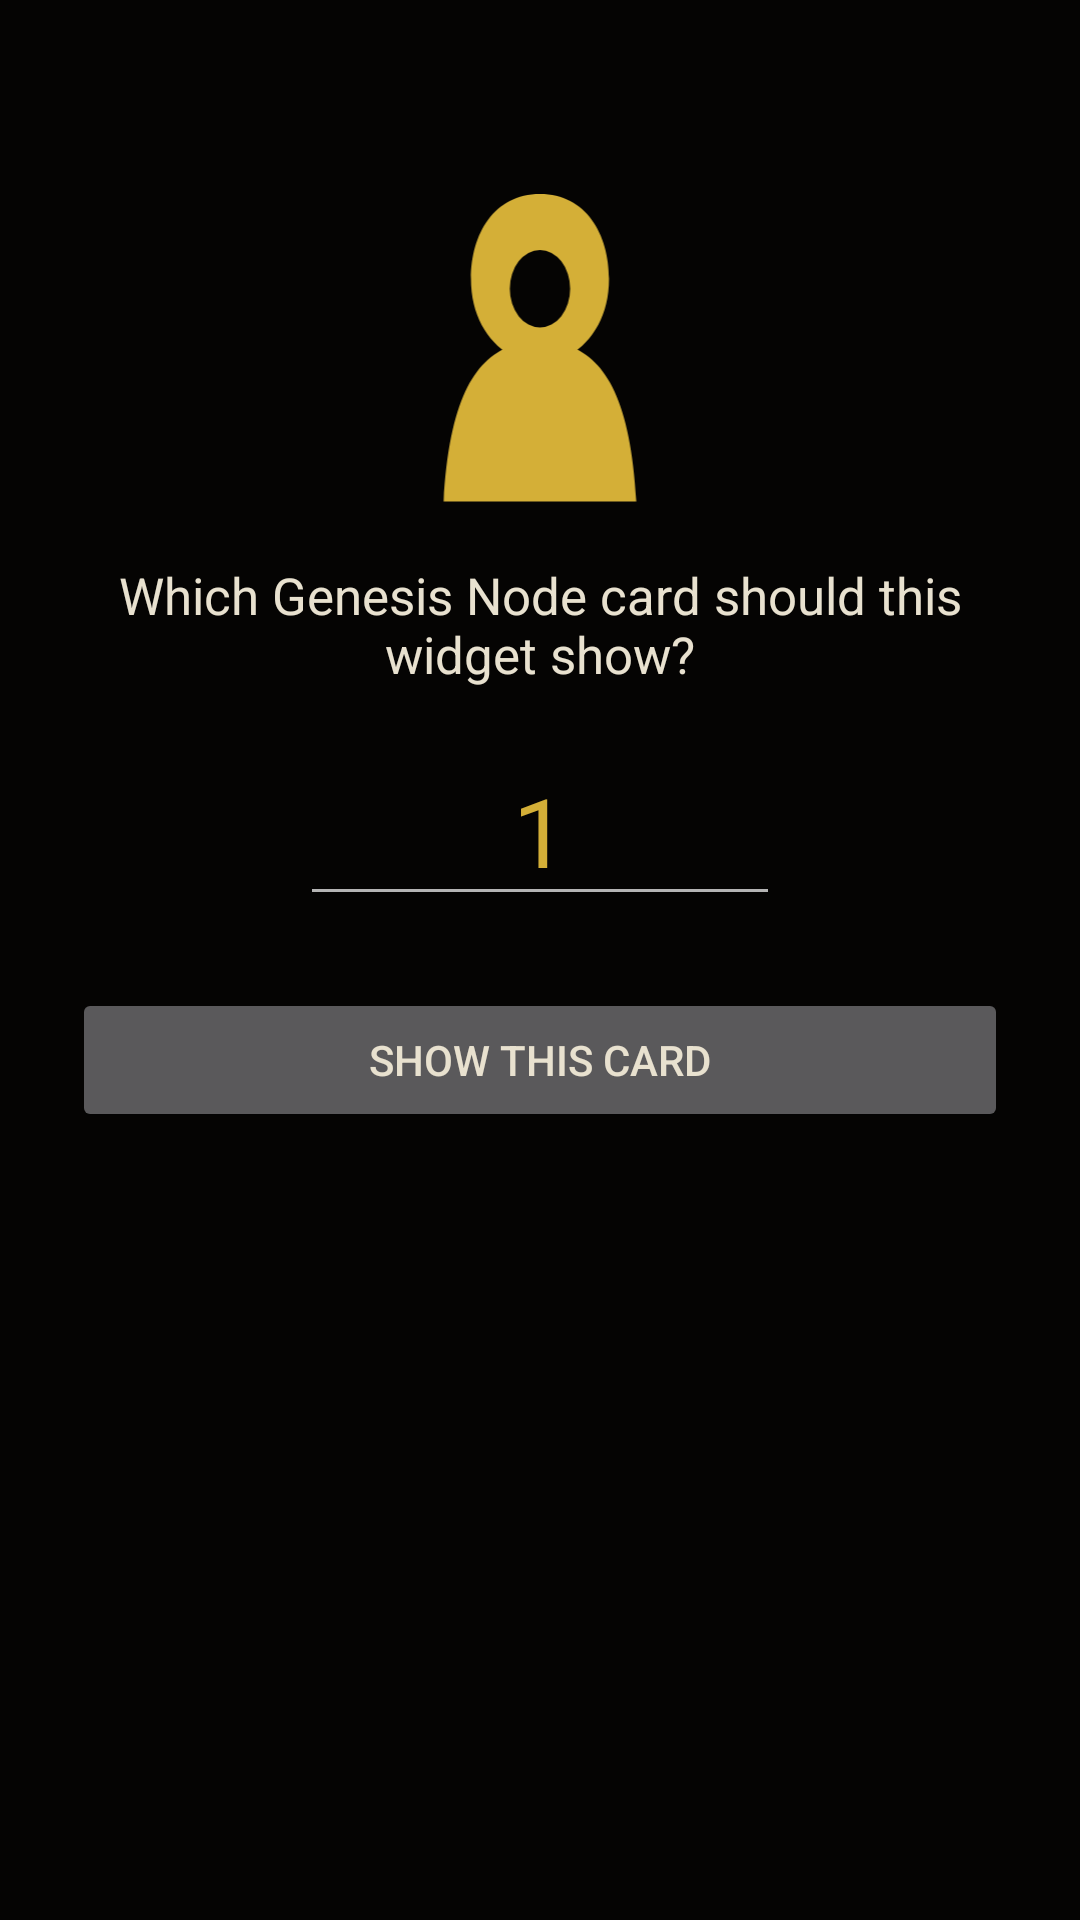

Screen size 1080px×1920px. Icon name, then its center in pixels as (x,y):
silhouette: (540,348)
